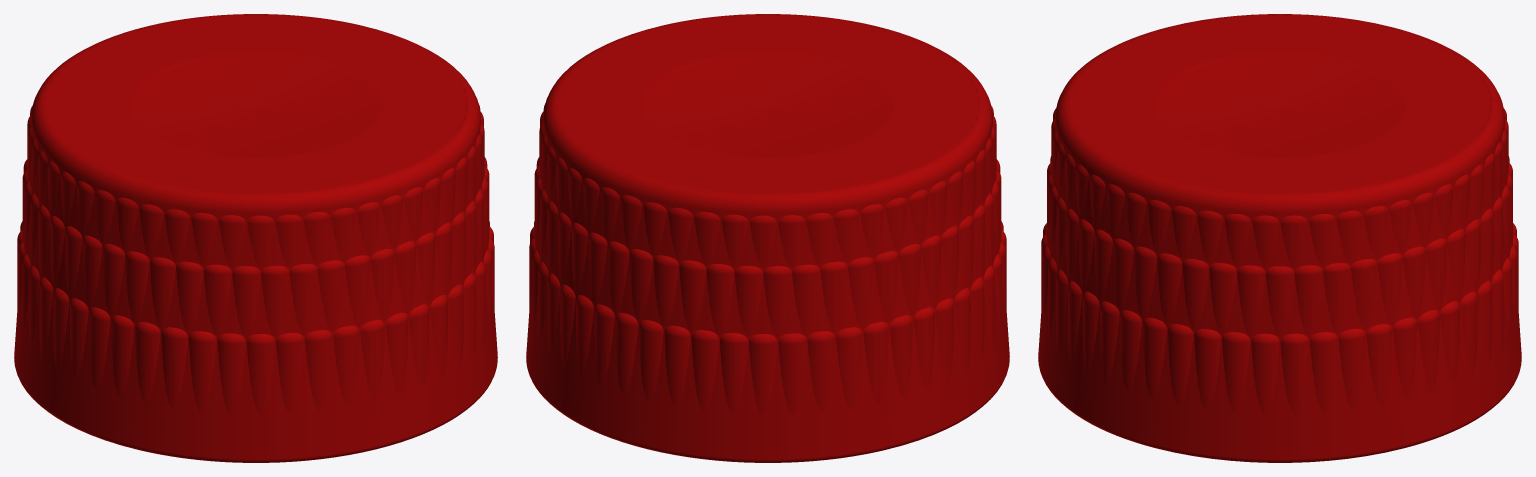
File: TearsBowlsmallproduct.glb
3 views of the same model, side by side, from view 1: azimuth 30°, elevation 25°; view 2: azimuth 150°, elevation 25°; view 3: azimuth 270°, elevation 25° (orthographic).
Size of the model in its own units: 0.0859 by 0.0506 by 0.0859.
